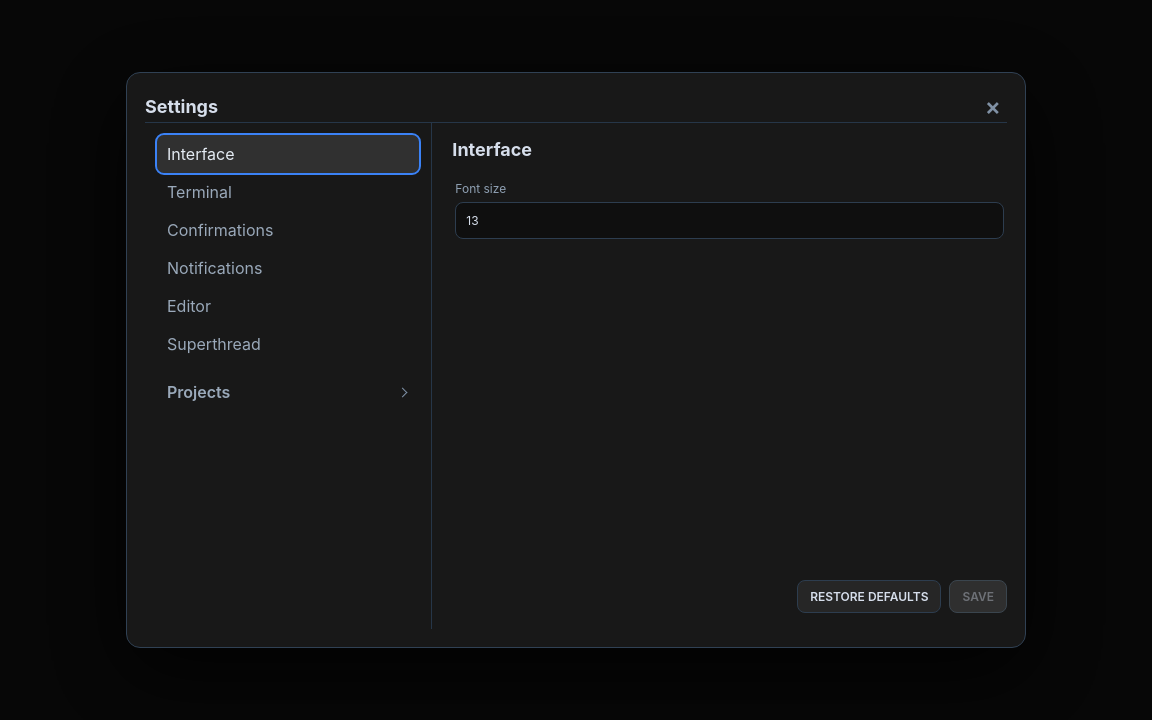
SettingsDialog › requires Save, Discard, or Cancel before dirty navigation
Replace the text in the number field labelled "Font size" with "17" at (730, 220), box x1=455 y1=202 x2=1004 y2=239
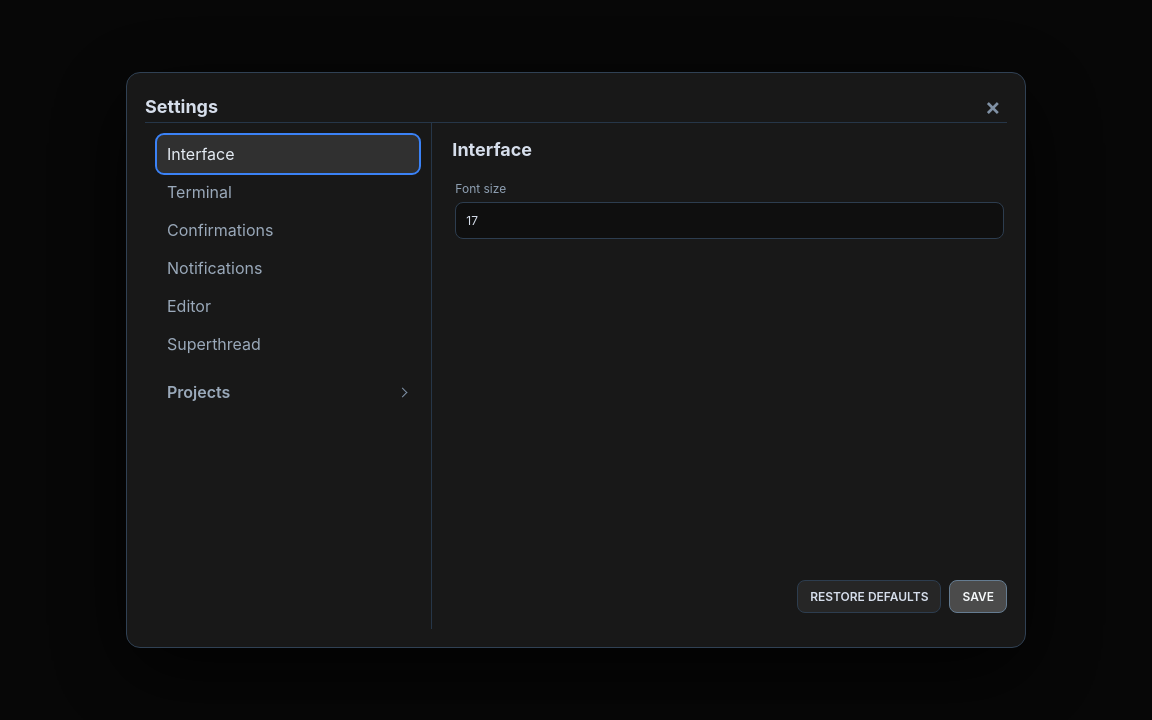
Click the button "Terminal" at (199, 192), box x1=157 y1=173 x2=419 y2=211
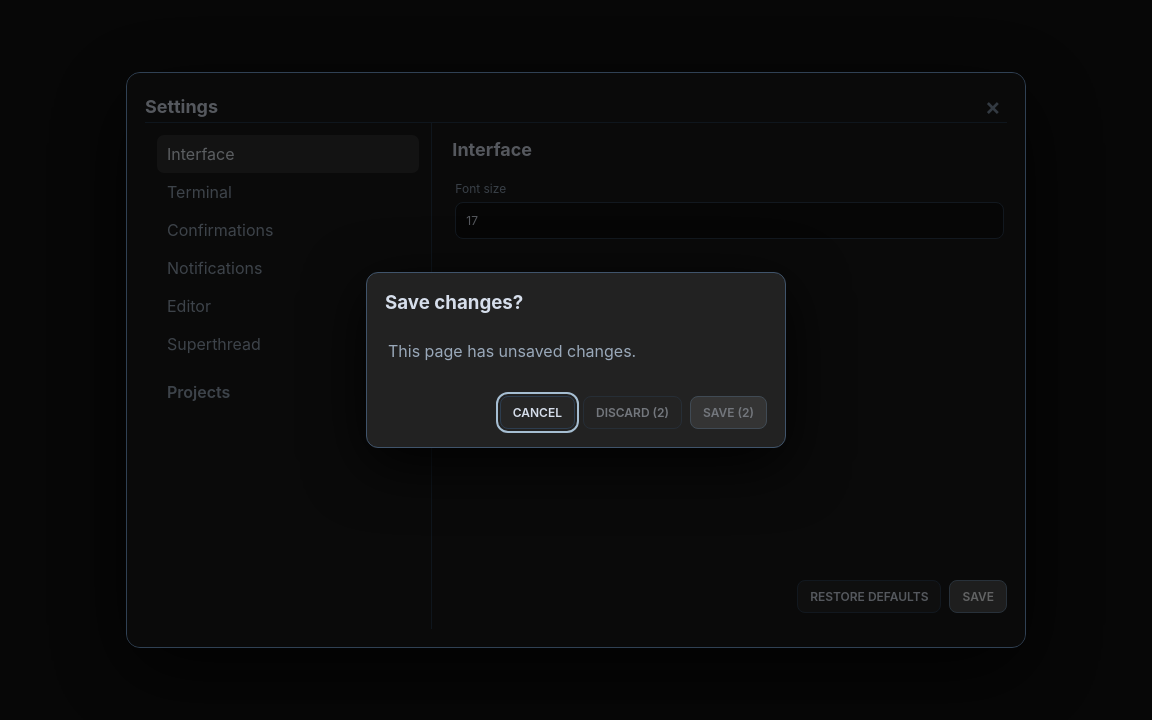
Expected: the dialog is shown, x1=366 y1=272 x2=786 y2=448
Click the button "Cancel" at (537, 412), box x1=500 y1=396 x2=575 y2=429
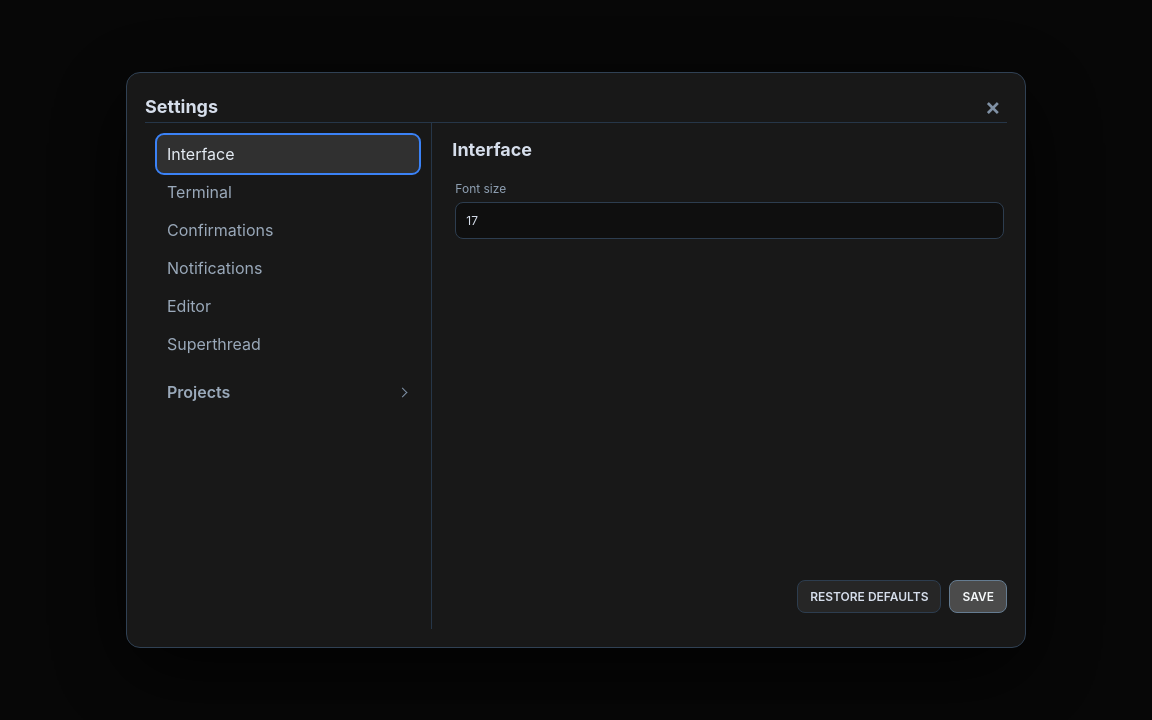
Expected: no dialogs are shown
